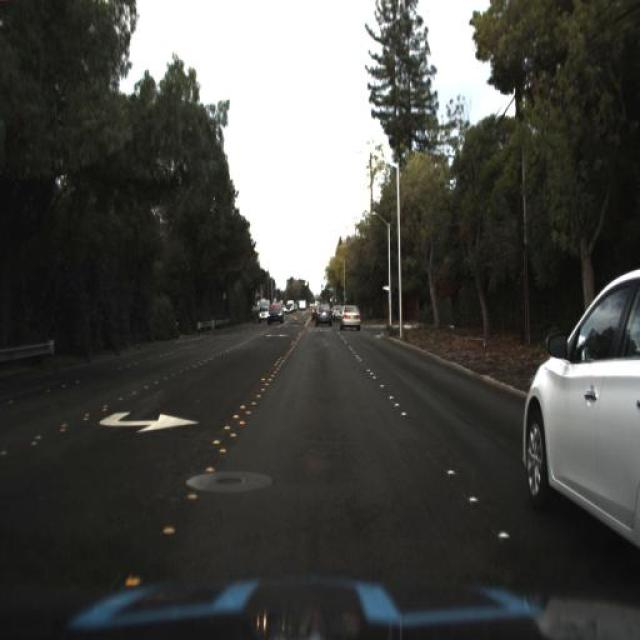car: (510, 259, 639, 547), (338, 298, 362, 332), (311, 300, 334, 330), (264, 302, 285, 327), (255, 298, 270, 323)
